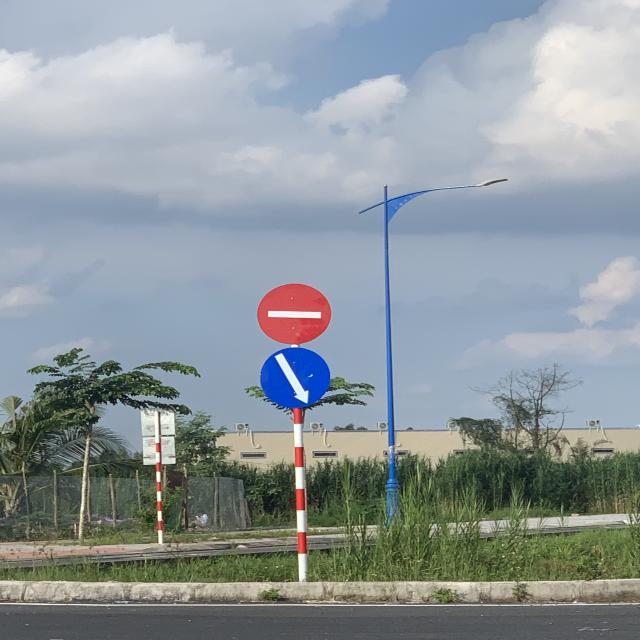Cam_Di_Nguoc_Chieu: (258, 283, 330, 344)
Chi_Huong_Di_Phai: (260, 347, 333, 410)
